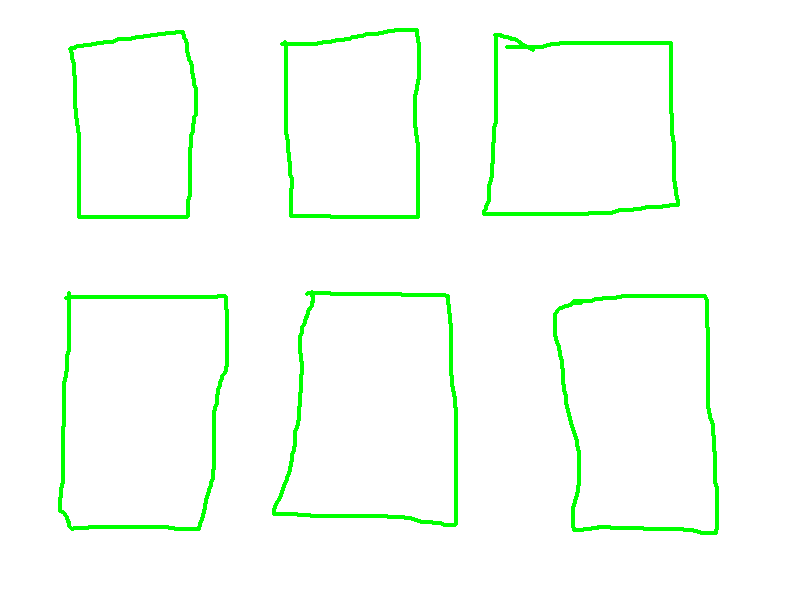rect: (269, 287, 465, 534), (51, 287, 234, 536), (549, 287, 728, 539), (479, 26, 688, 222), (274, 20, 430, 226), (67, 24, 202, 226)
